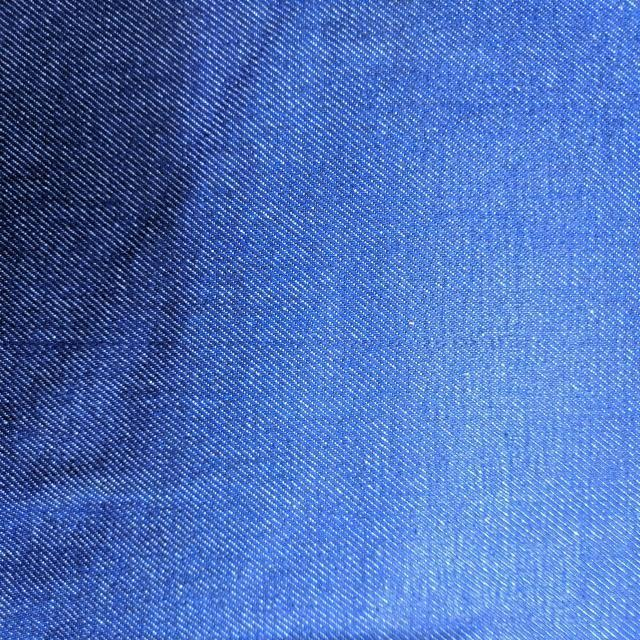Line: (0, 334, 524, 351)
